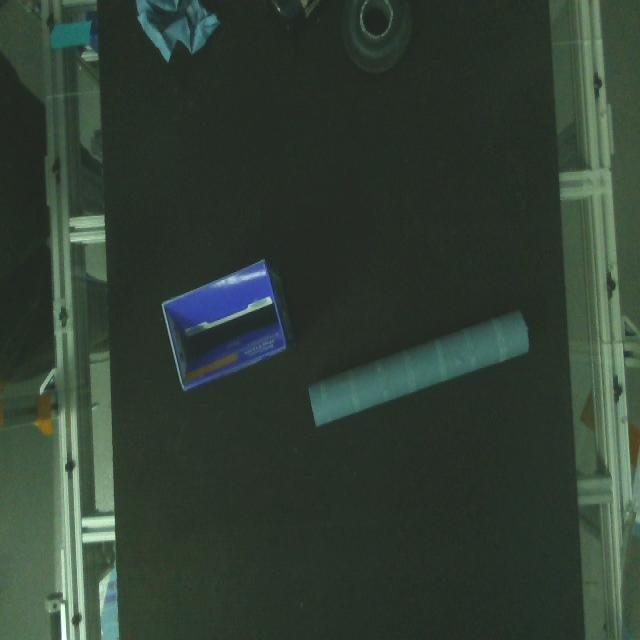non-paper: (336, 0, 414, 83), (262, 0, 324, 34)
paper: (304, 312, 534, 434), (150, 251, 300, 399), (126, 0, 222, 75)
